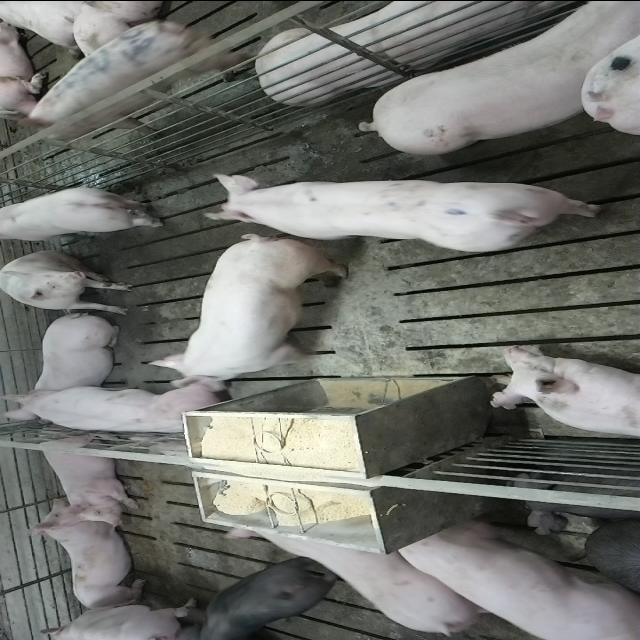Feeding: (146, 231, 353, 380)
Lateral_lying: (258, 0, 580, 102)
Sitting: (5, 380, 234, 436), (1, 248, 137, 312)
Standing: (204, 177, 612, 259), (397, 516, 640, 638), (8, 21, 242, 145), (278, 534, 500, 638), (182, 559, 348, 640), (1, 184, 167, 242)
Sternal_lying: (488, 346, 640, 441), (29, 509, 151, 613), (32, 427, 142, 522), (31, 314, 123, 398)
